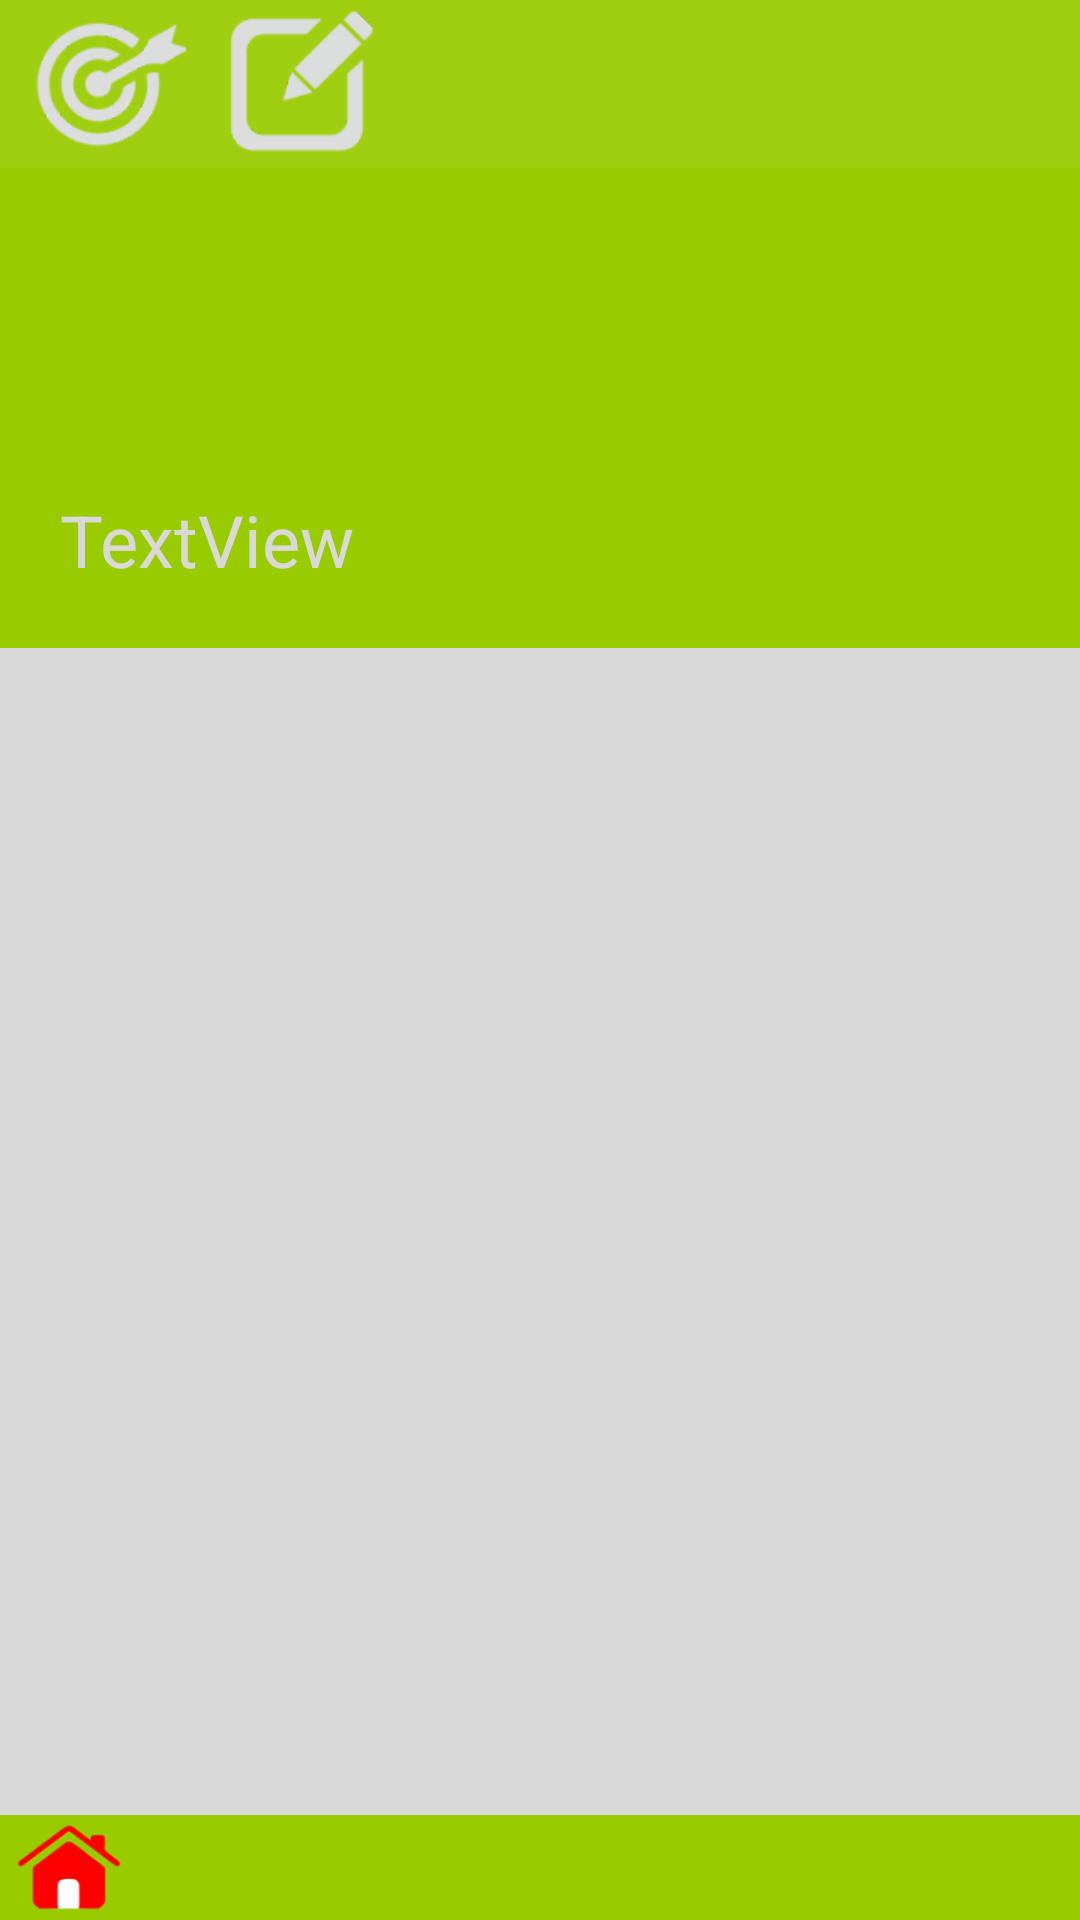

Screen size 1080px x 1920px. Icon name, then its center in pixels as point (x, y):
entry: point (302, 81)
home: point (69, 1867)
mission: point (111, 85)
